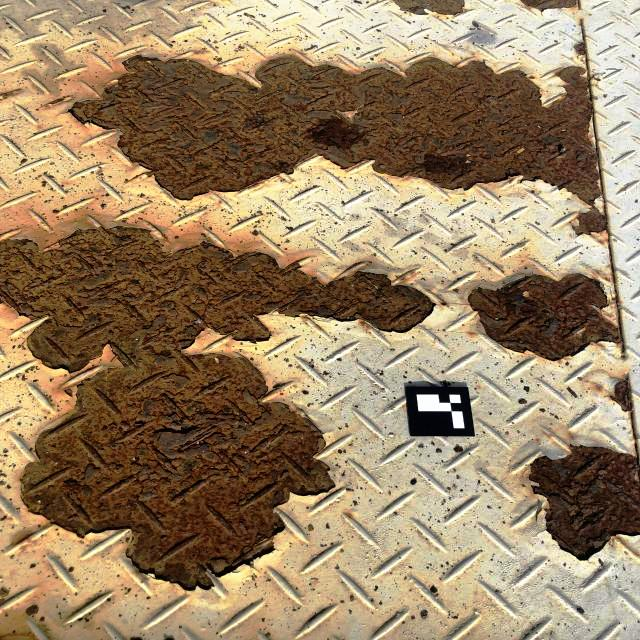Corrosion: (0, 227, 433, 590), (70, 56, 601, 203), (469, 274, 621, 361), (530, 446, 640, 561), (393, 0, 465, 14), (574, 207, 608, 235), (610, 379, 633, 412), (522, 0, 579, 10), (575, 41, 587, 54)
